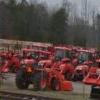Tractor: (15, 39, 75, 96)
